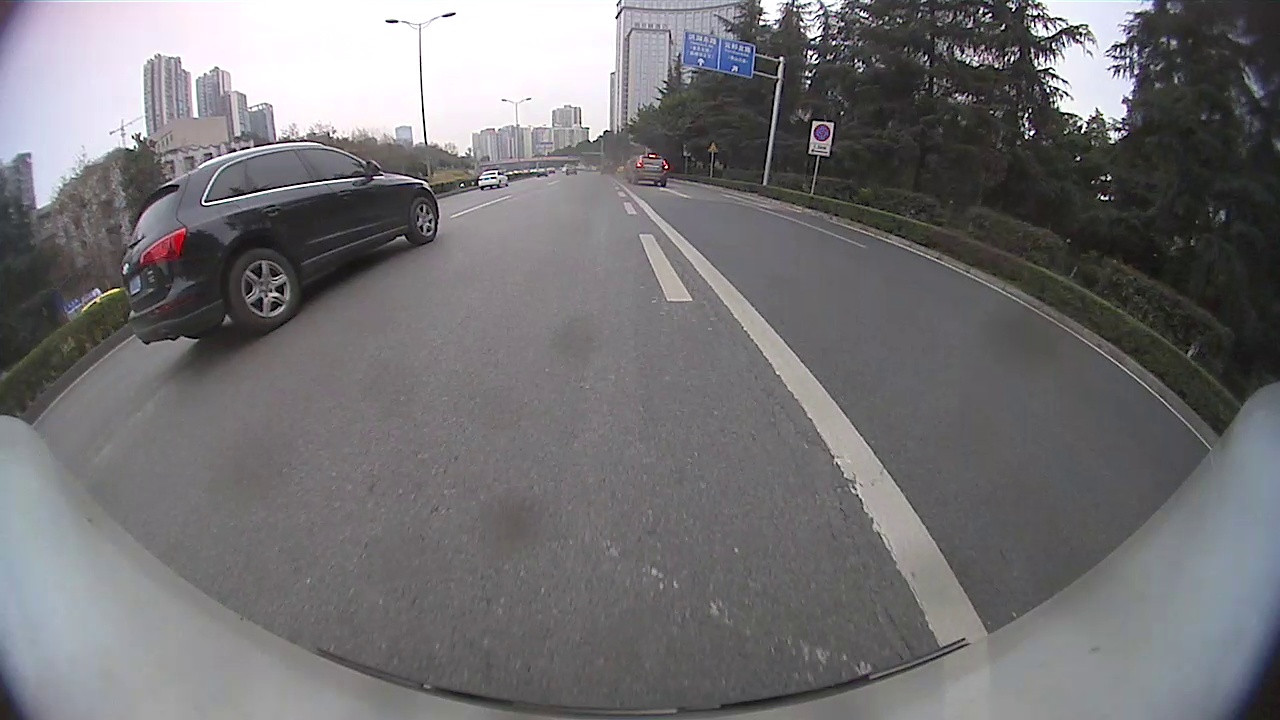car: (120, 140, 440, 345), (627, 153, 670, 187), (477, 167, 509, 190)
front: (407, 197, 441, 244)
rear: (227, 245, 299, 334)
